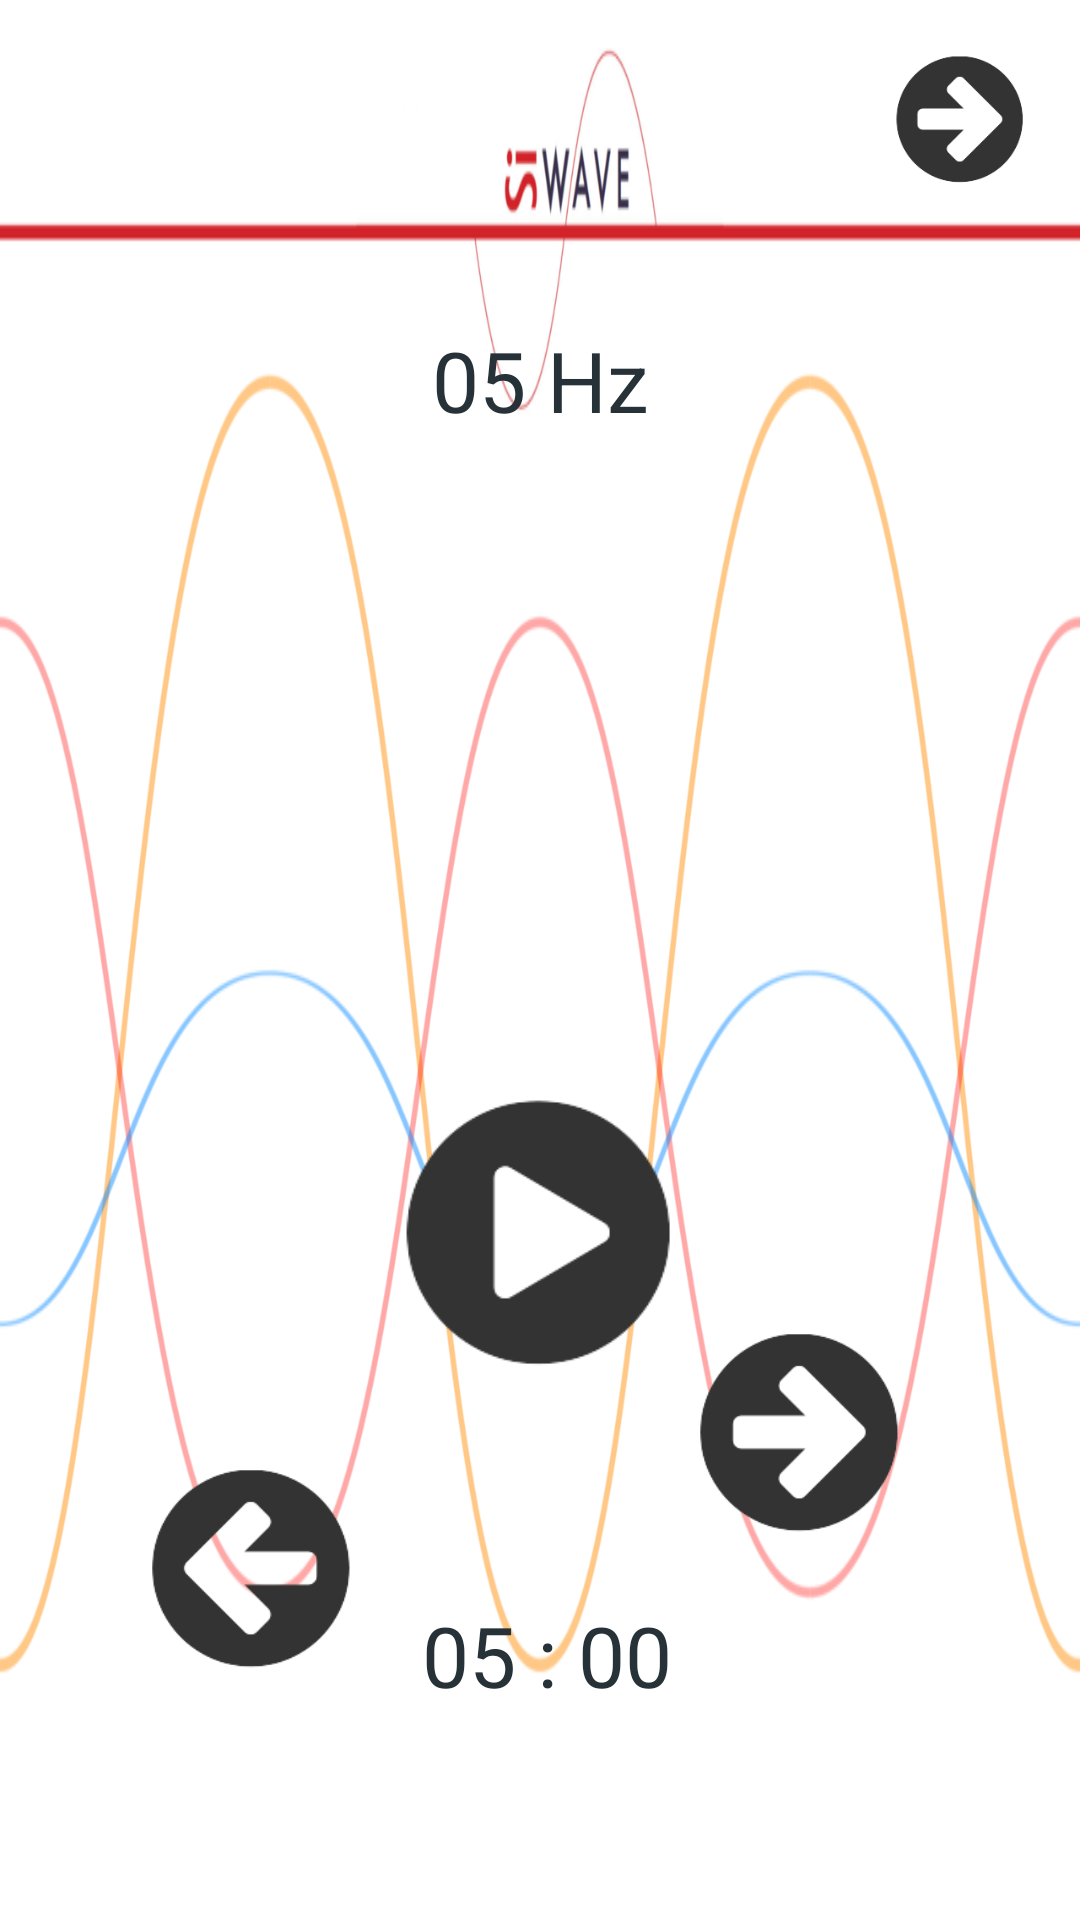

Named icons in this screenshot (1080w x 1920h) and their bounding boxes, (x1, y1, x2, y2):
left: (152, 1457, 356, 1667)
play: (389, 1083, 689, 1383)
right: (694, 1321, 912, 1546)
